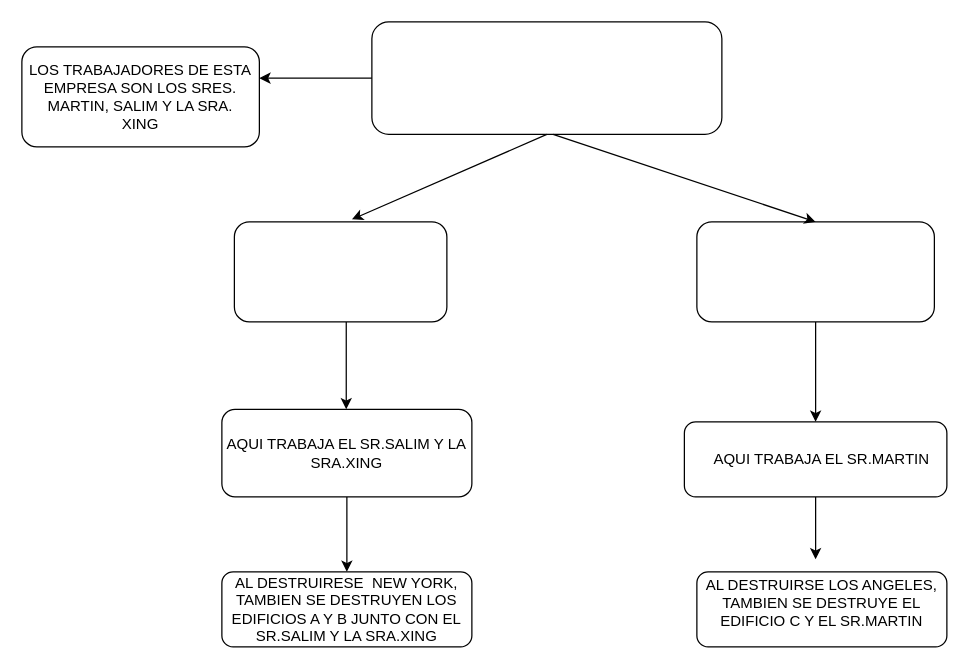
The diagram is 969 pixels wide and 669 high, and some of its shapes have lost their labels. The box of each missing label's shape, as (x1, y1, x2, y2) in pixels:
EL EDIFICIO A Y B ESTAN EN NEW YORK: (233, 221, 447, 322)
EL EDIFICIO C ESTA EN LOS ANGELES: (696, 221, 934, 322)
EMPRESA YOHOO PROPIETARIA DE LOS EDIFICIOS A, B Y C: (371, 21, 722, 134)
